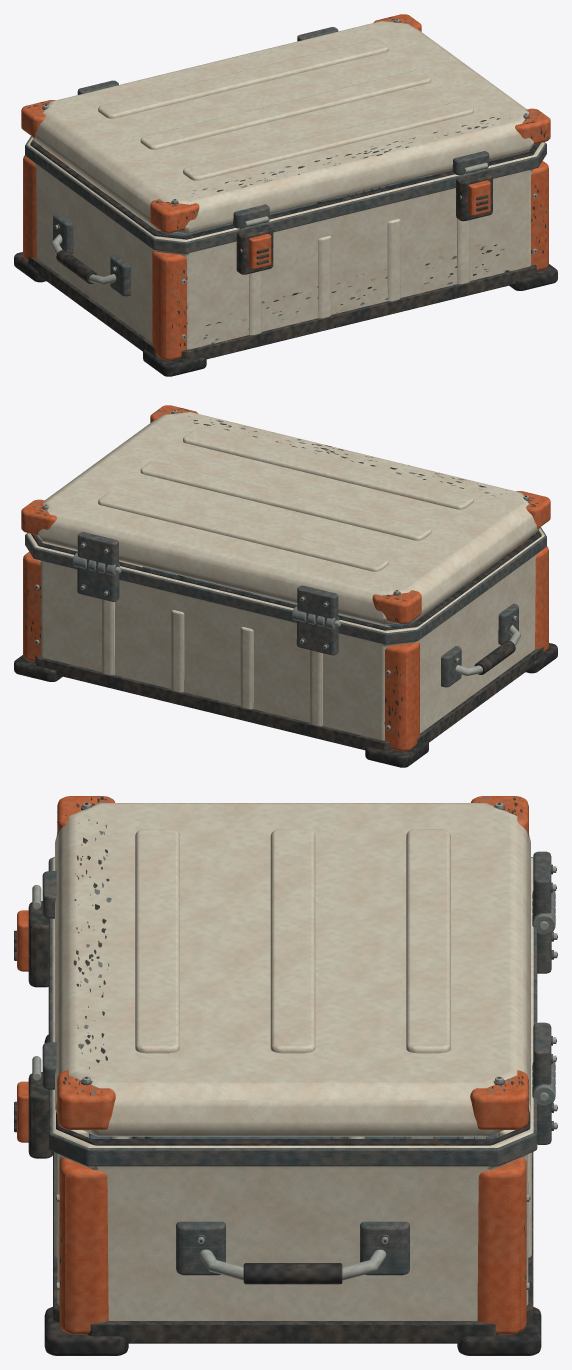
File: fitout_crate_medium.glb
The picture shows the model from 3 angles, top to bottom: view 1: azimuth 30°, elevation 25°; view 2: azimuth 150°, elevation 25°; view 3: azimuth 270°, elevation 25°; orthographic projection. The views are drawn at different scales.
Parts seen in each view (by area): view 1: Lid_rover_white, FitoutCrateMedium_rover_white, FitoutCrateMedium_graphite, FitoutCrateMedium_orange, FitoutCrateMedium_dark_alloy, FitoutCrateMedium_black_rubber, Lid_orange, Lid_dark_alloy, Lid_graphite, FitoutCrateMedium_satin_steel; view 2: Lid_rover_white, FitoutCrateMedium_rover_white, FitoutCrateMedium_dark_alloy, FitoutCrateMedium_graphite, FitoutCrateMedium_orange, FitoutCrateMedium_black_rubber, Lid_orange, Lid_dark_alloy, FitoutCrateMedium_alloy, FitoutCrateMedium_satin_steel, Lid_alloy, Lid_graphite; view 3: Lid_rover_white, FitoutCrateMedium_rover_white, FitoutCrateMedium_orange, FitoutCrateMedium_dark_alloy, FitoutCrateMedium_graphite, FitoutCrateMedium_black_rubber, Lid_orange, Lid_dark_alloy, FitoutCrateMedium_satin_steel, FitoutCrateMedium_alloy, Lid_graphite, Lid_satin_steel (+1 smaller).
Boxes of the visible parts, box(x1,y1,x2,y2) form: Lid_rover_white: box(32, 21, 534, 233); FitoutCrateMedium_rover_white: box(27, 137, 544, 349); FitoutCrateMedium_graphite: box(28, 171, 547, 359); FitoutCrateMedium_orange: box(23, 149, 548, 360); FitoutCrateMedium_dark_alloy: box(25, 136, 546, 296); FitoutCrateMedium_black_rubber: box(14, 139, 557, 376); Lid_orange: box(21, 14, 550, 233); Lid_dark_alloy: box(42, 21, 529, 228); Lid_graphite: box(26, 16, 548, 229); FitoutCrateMedium_satin_steel: box(51, 193, 537, 339); Lid_rover_white: box(37, 412, 539, 624); FitoutCrateMedium_rover_white: box(27, 528, 544, 740); FitoutCrateMedium_dark_alloy: box(25, 527, 546, 687); FitoutCrateMedium_graphite: box(24, 577, 543, 750); FitoutCrateMedium_orange: box(23, 540, 548, 751); FitoutCrateMedium_black_rubber: box(14, 530, 557, 767); Lid_orange: box(21, 405, 550, 624); Lid_dark_alloy: box(42, 412, 529, 620); FitoutCrateMedium_alloy: box(25, 552, 401, 734); FitoutCrateMedium_satin_steel: box(34, 566, 520, 730); Lid_alloy: box(34, 406, 541, 627); Lid_graphite: box(23, 407, 538, 622); Lid_rover_white: box(55, 803, 530, 1136); FitoutCrateMedium_rover_white: box(52, 857, 533, 1320); FitoutCrateMedium_orange: box(17, 910, 526, 1334); FitoutCrateMedium_dark_alloy: box(48, 857, 553, 1275); FitoutCrateMedium_graphite: box(14, 901, 557, 1343); FitoutCrateMedium_black_rubber: box(44, 1034, 541, 1355); Lid_orange: box(57, 796, 528, 1129); Lid_dark_alloy: box(42, 805, 552, 1089); FitoutCrateMedium_satin_steel: box(56, 921, 557, 1289); FitoutCrateMedium_alloy: box(60, 891, 555, 1261); Lid_graphite: box(57, 797, 556, 1121); Lid_satin_steel: box(32, 802, 556, 1082).
Size of the model in its own units: 0.8878 by 0.329 by 0.6091.
9 materials, 9 textured.
